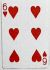six: (1, 1, 49, 68)
